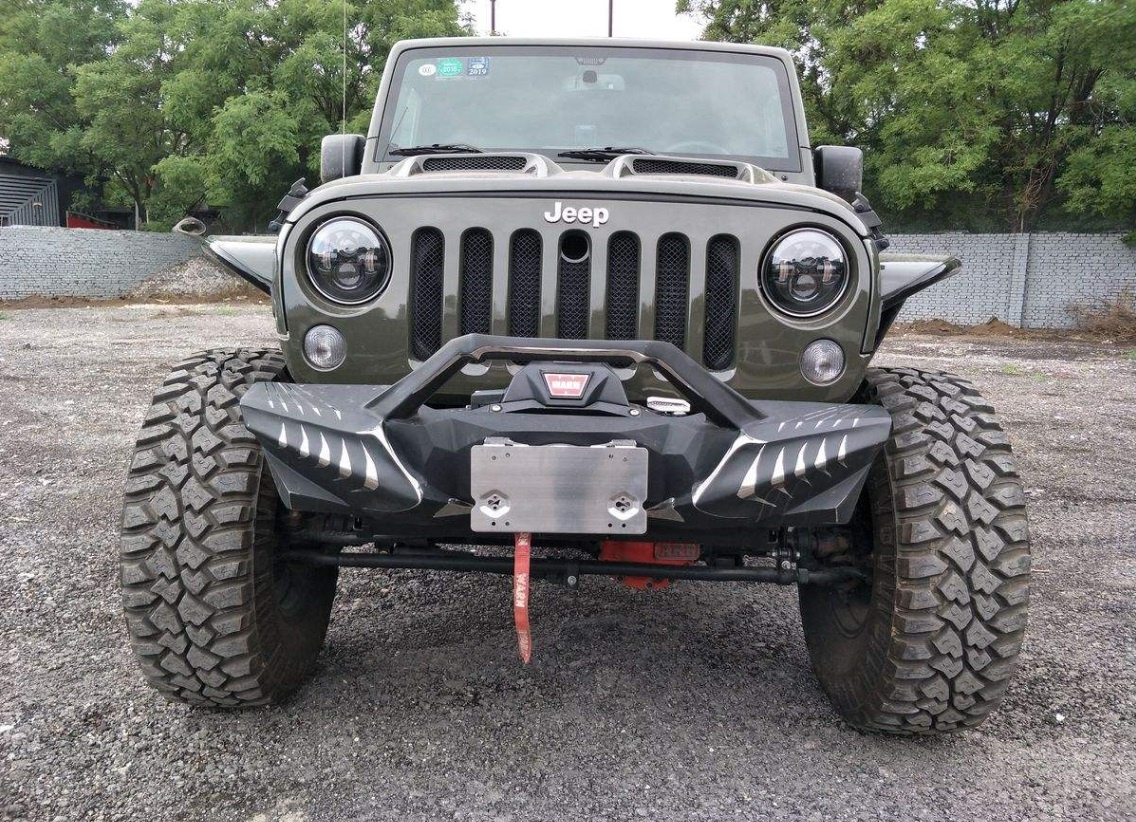jeep: (115, 38, 1041, 740)
